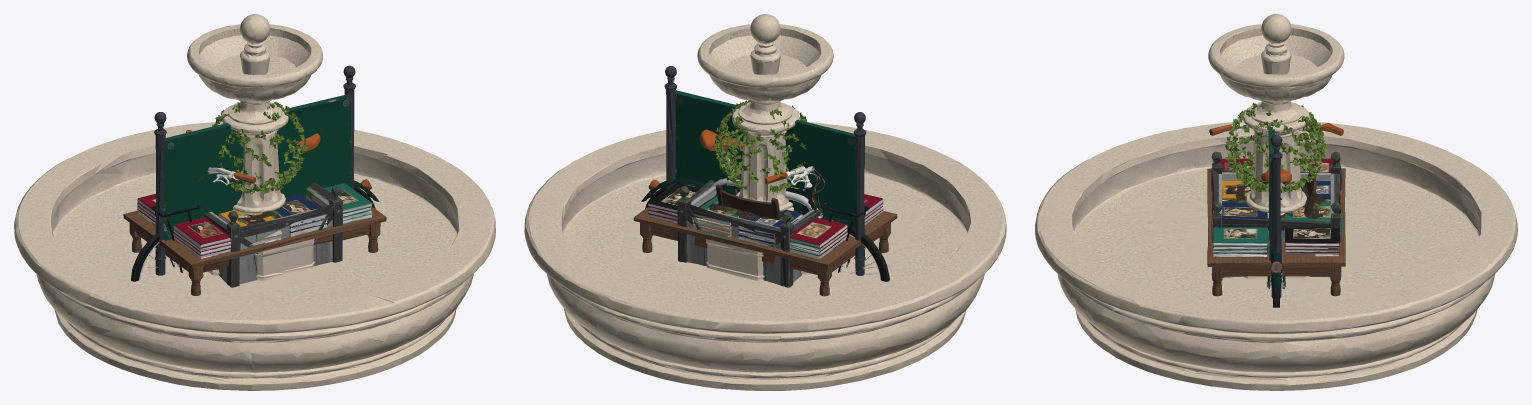
Rendered from accessoires.glb.
The picture shows the model from 3 angles, left to right: view 1: azimuth 30°, elevation 25°; view 2: azimuth 150°, elevation 25°; view 3: azimuth 270°, elevation 25°; orthographic projection.
Parts seen in each view (by area): view 1: Fontaine, PanneauHoraires, Presentoir, Versailles, Velo; view 2: Fontaine, PanneauHoraires, Presentoir, Versailles, Velo, ChaiseGardien; view 3: Fontaine, Presentoir, Versailles, PanneauHoraires, Velo.
Part boxes in pixels (left/top/right/bottom): Fontaine: left=14, top=14, right=495, bottom=390; PanneauHoraires: left=154, top=65, right=355, bottom=275; Presentoir: left=123, top=183, right=386, bottom=295; Versailles: left=203, top=101, right=342, bottom=287; Velo: left=131, top=130, right=379, bottom=281; Fontaine: left=524, top=14, right=1006, bottom=390; PanneauHoraires: left=664, top=66, right=866, bottom=275; Presentoir: left=633, top=183, right=897, bottom=296; Versailles: left=677, top=100, right=820, bottom=287; Velo: left=641, top=129, right=889, bottom=281; ChaiseGardien: left=716, top=184, right=780, bottom=220; Fontaine: left=1035, top=14, right=1517, bottom=390; Presentoir: left=1207, top=158, right=1345, bottom=296; Versailles: left=1211, top=102, right=1341, bottom=277; PanneauHoraires: left=1268, top=129, right=1282, bottom=298; Velo: left=1209, top=123, right=1343, bottom=307.
Size of the model in its own units: 3 by 2 by 3.
9 materials, 8 textured.
